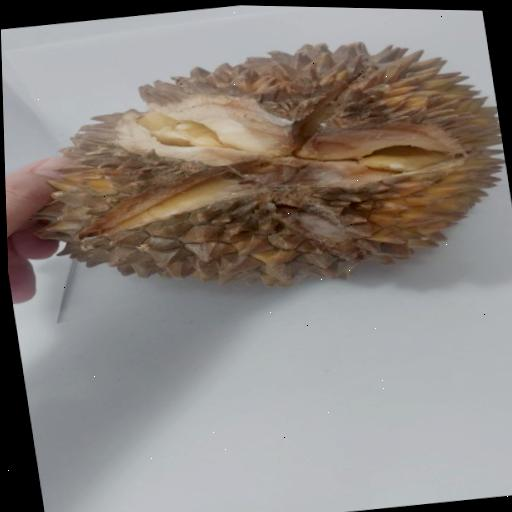rot: (0, 9, 512, 349)
